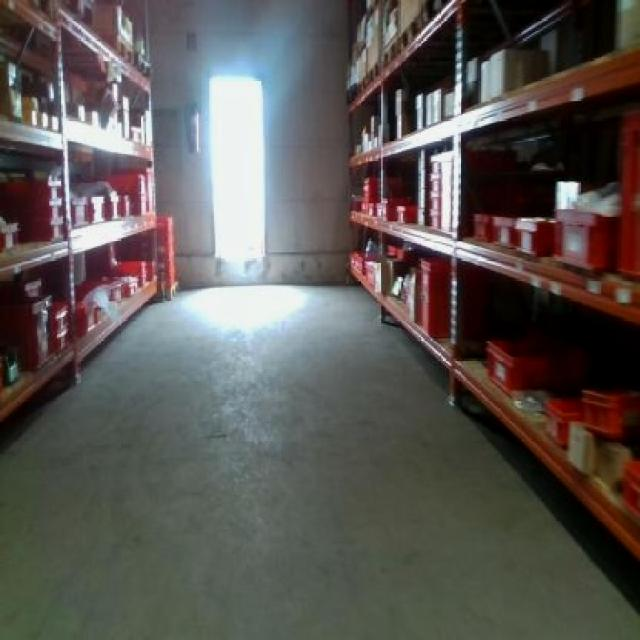floor: (0, 283, 637, 637)
pallets: (346, 0, 637, 555)
